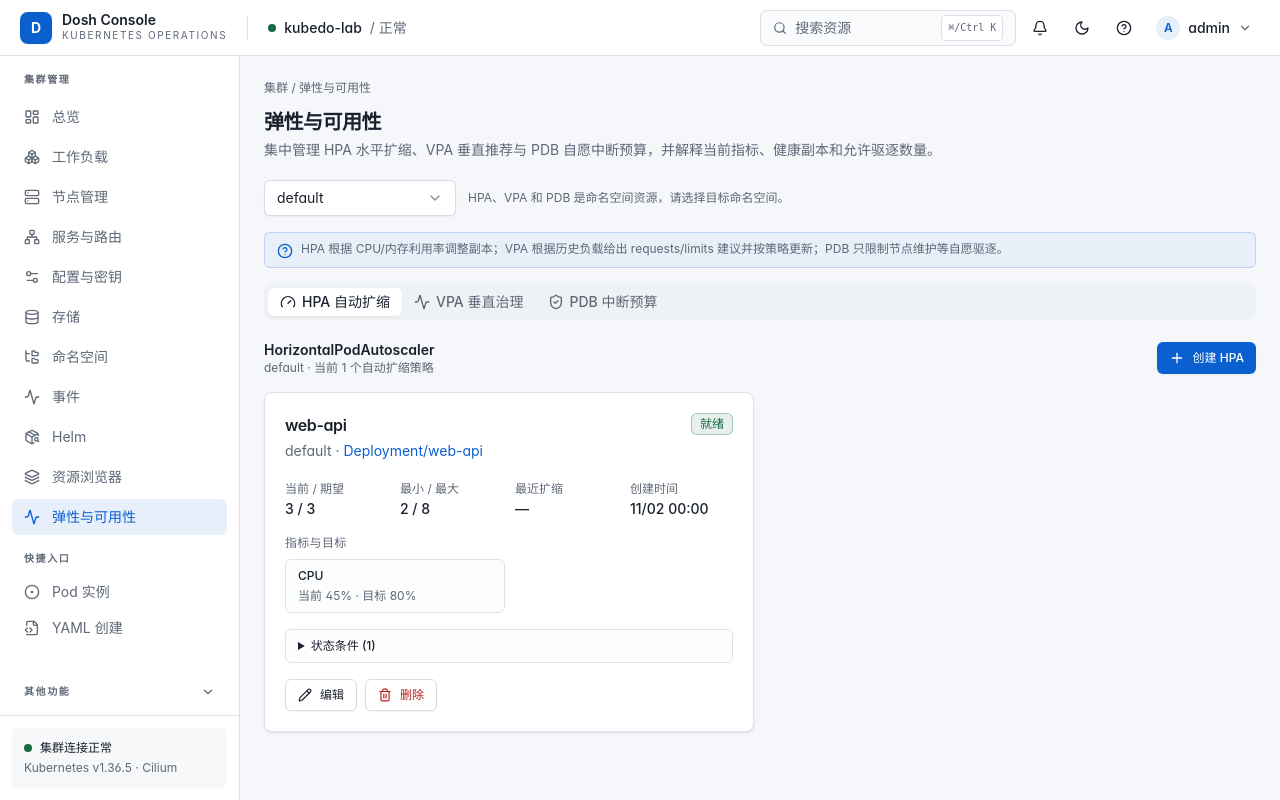
Test: dosh application › renders autoscaler and disruption budget explanations
Expected: the heading "弹性与可用性" is shown, 264,110 -> 381,134
Expected: the heading "web-api" is shown, 285,415 -> 346,435
Press the mouse on the tab "PDB 中断预算" at [602, 302], box 536,288 -> 670,316
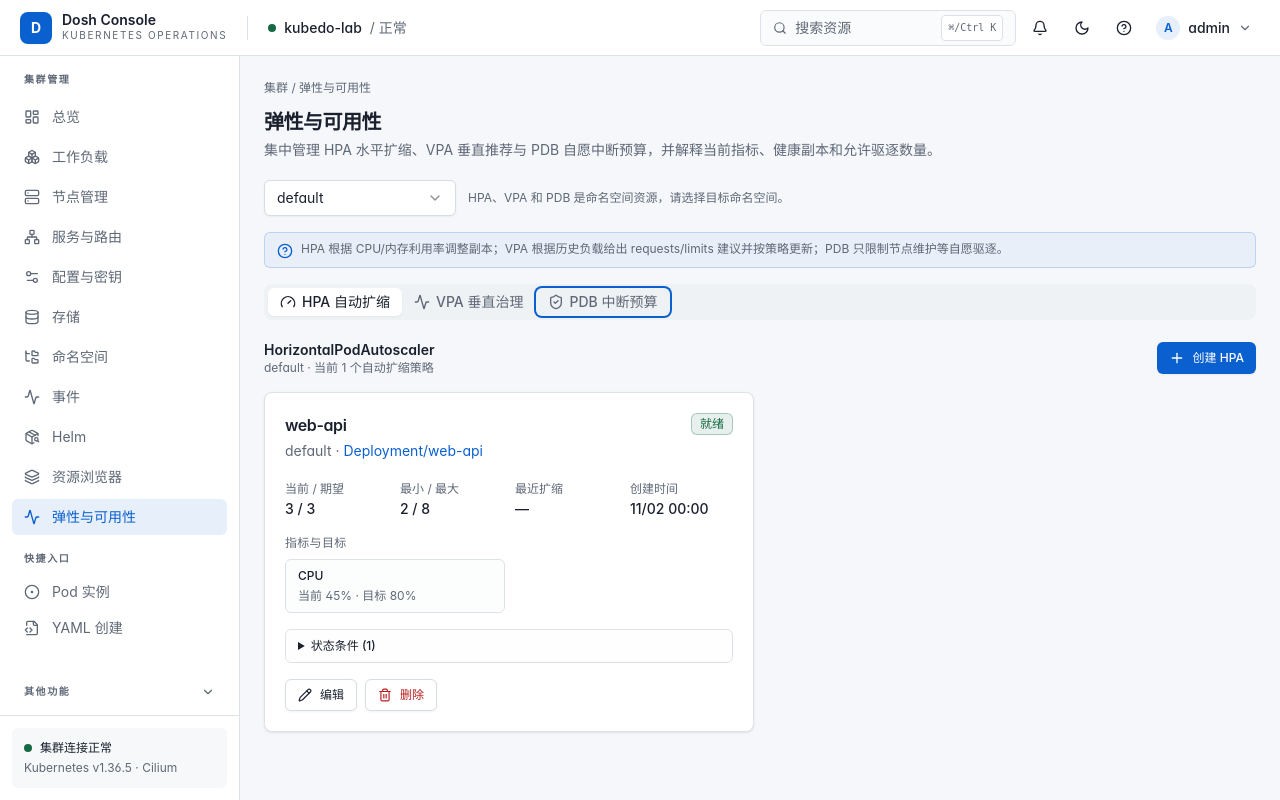
Click the tab "PDB 中断预算" at [602, 302], box 536,288 -> 670,316
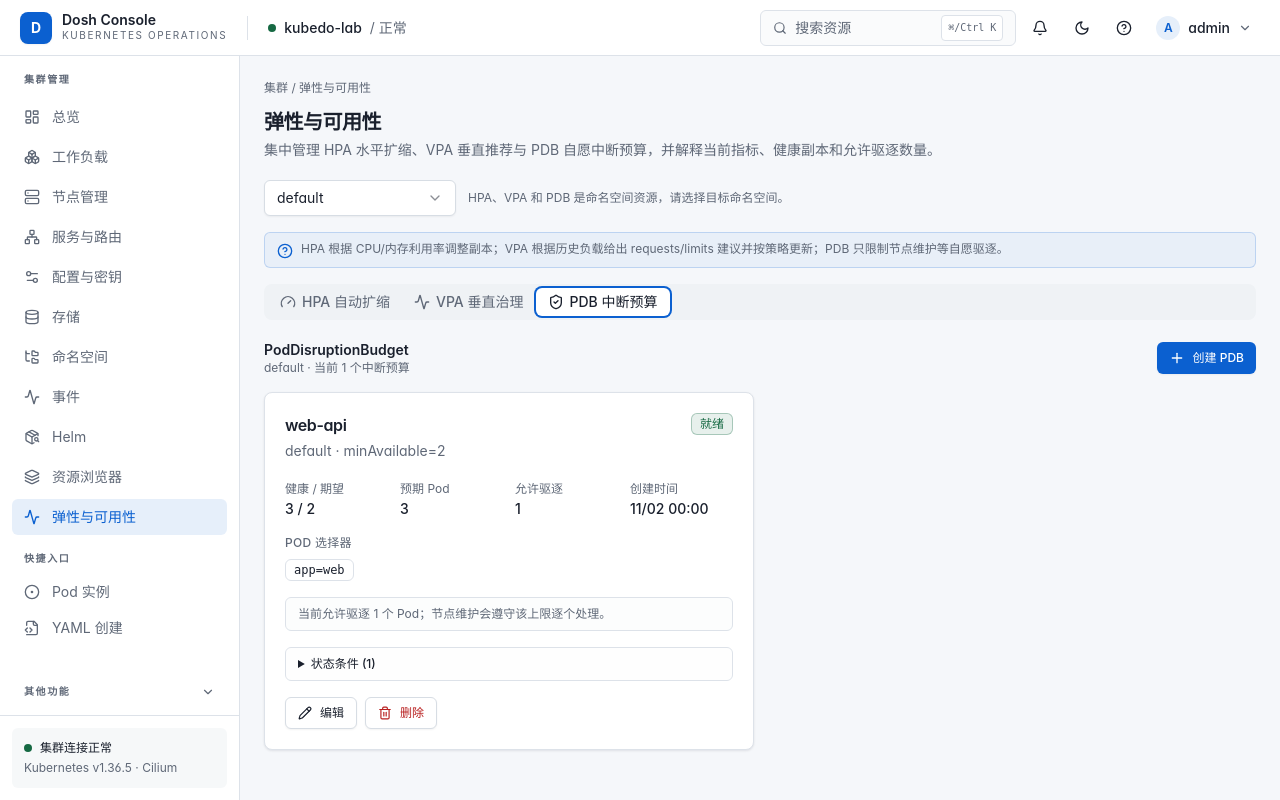
Now the text "健康 / 期望" is shown, box 285,481 -> 344,496
Now the text "当前允许驱逐 1 个 Pod；节点维护会遵守该上限逐个处理。" is shown, box 285,597 -> 733,631
